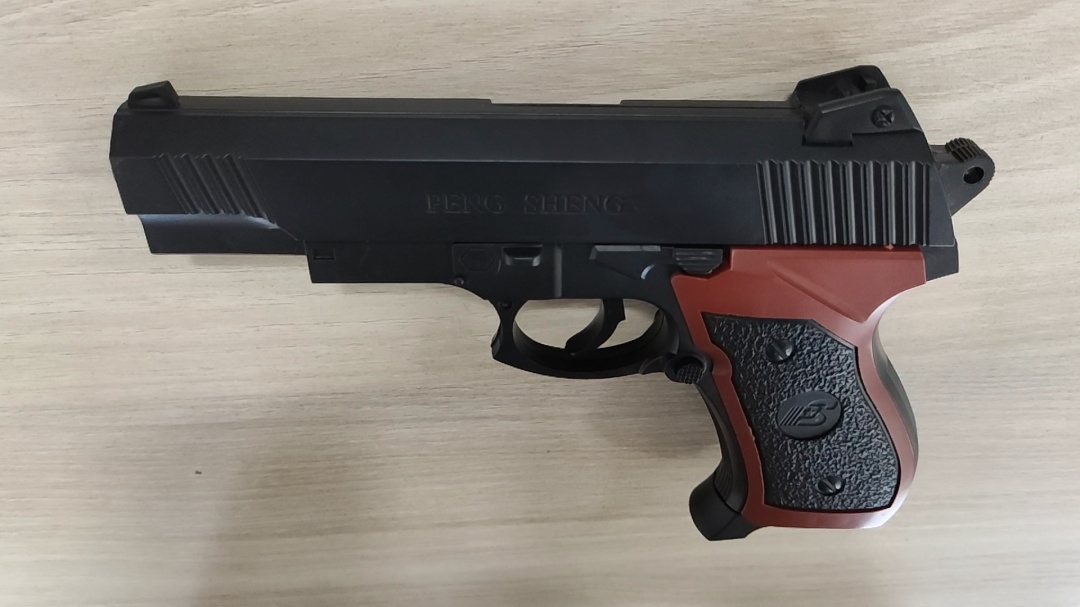gun: (110, 65, 997, 544)
